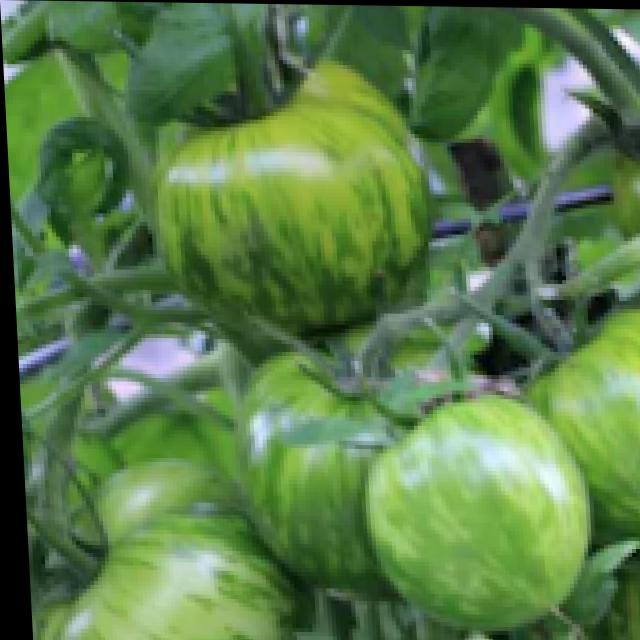yesil: (106, 45, 444, 325), (288, 368, 596, 619)
